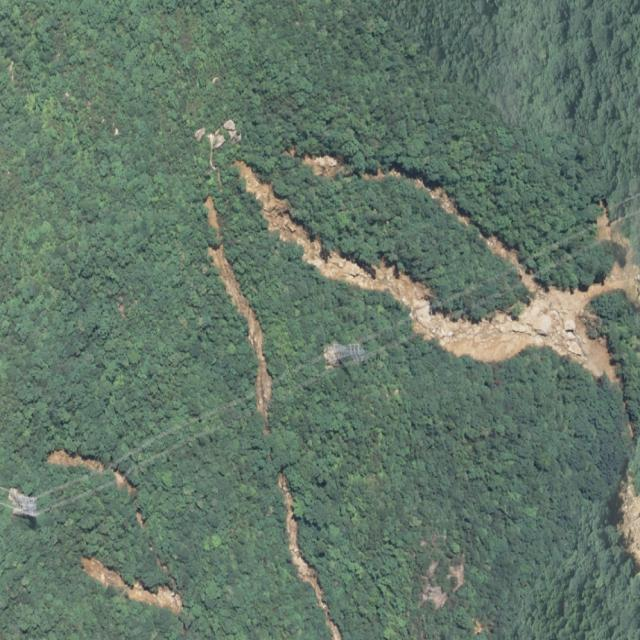landslide: (235, 161, 640, 383), (208, 243, 272, 433), (277, 474, 341, 640), (81, 559, 181, 615), (389, 166, 474, 226)
